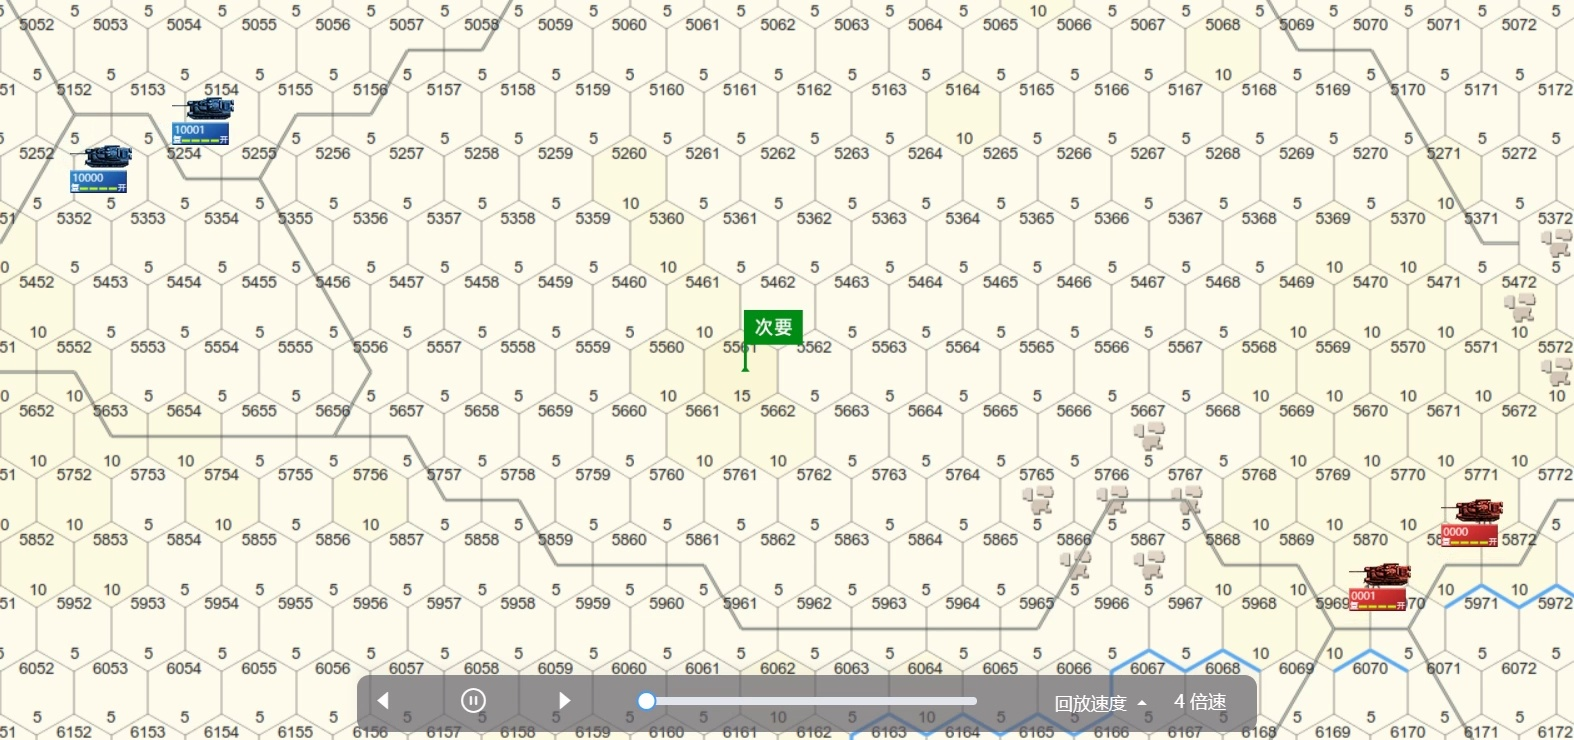blue_tank: (66, 143, 140, 201), (169, 97, 234, 152)
red_tank: (1349, 561, 1420, 616), (1438, 498, 1509, 552)
